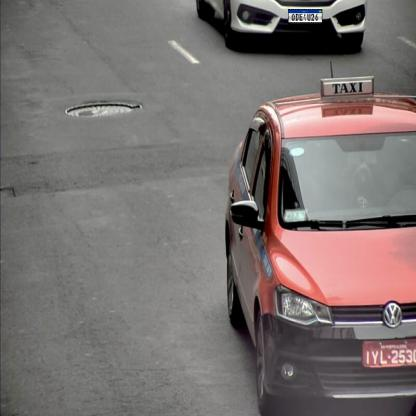PlacaM: (288, 9, 322, 23)
